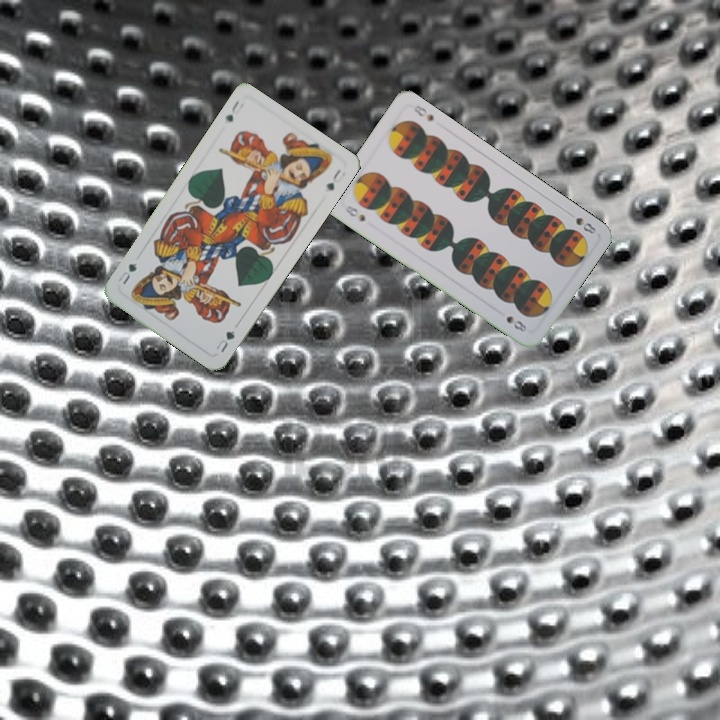GU: (212, 326, 237, 355), (221, 96, 243, 124)
S8: (563, 207, 599, 237), (341, 201, 368, 224)
